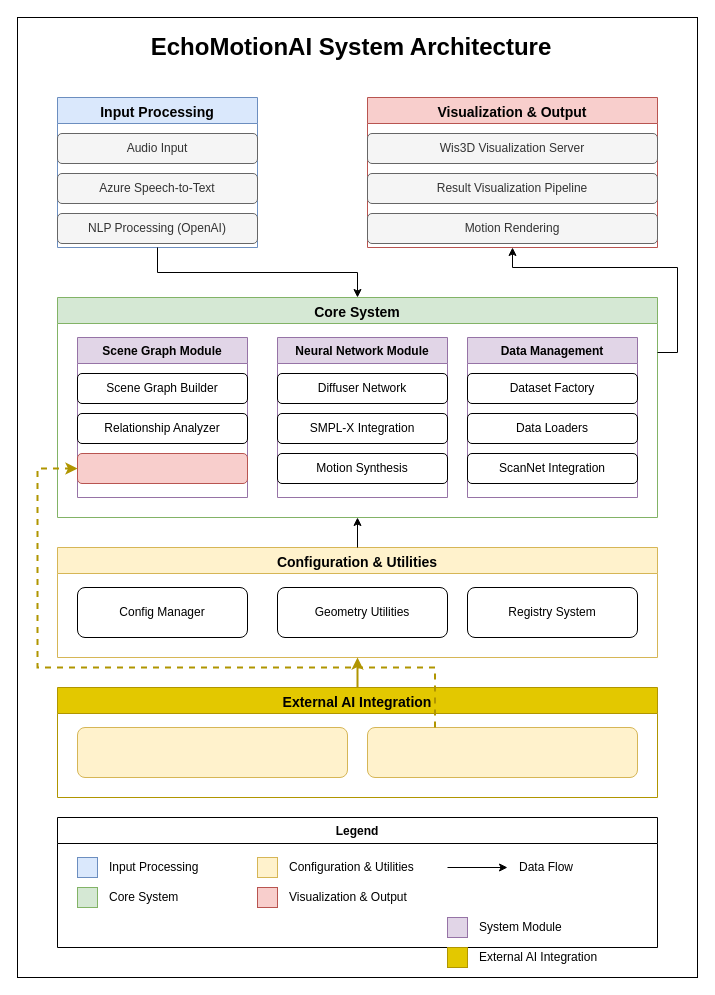
Image size: 715x995. Some labels were removed from this diagram. Here are the shapes that lost their labels. From the top down, the centre of each, then its label:
(x=162, y=468): Multi-Agent ChatGPT System
(x=212, y=752): Custom LLM for RLHF
(x=502, y=752): Agent Memory System
